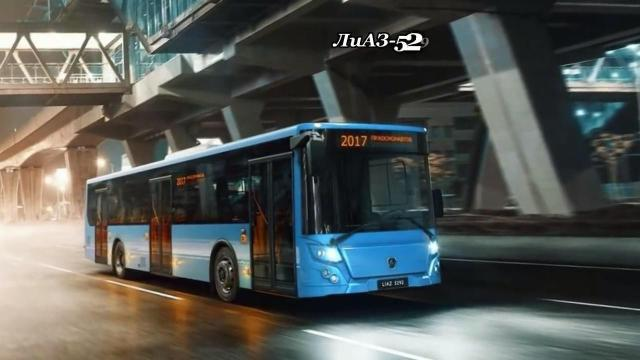bus: (76, 119, 449, 306)
